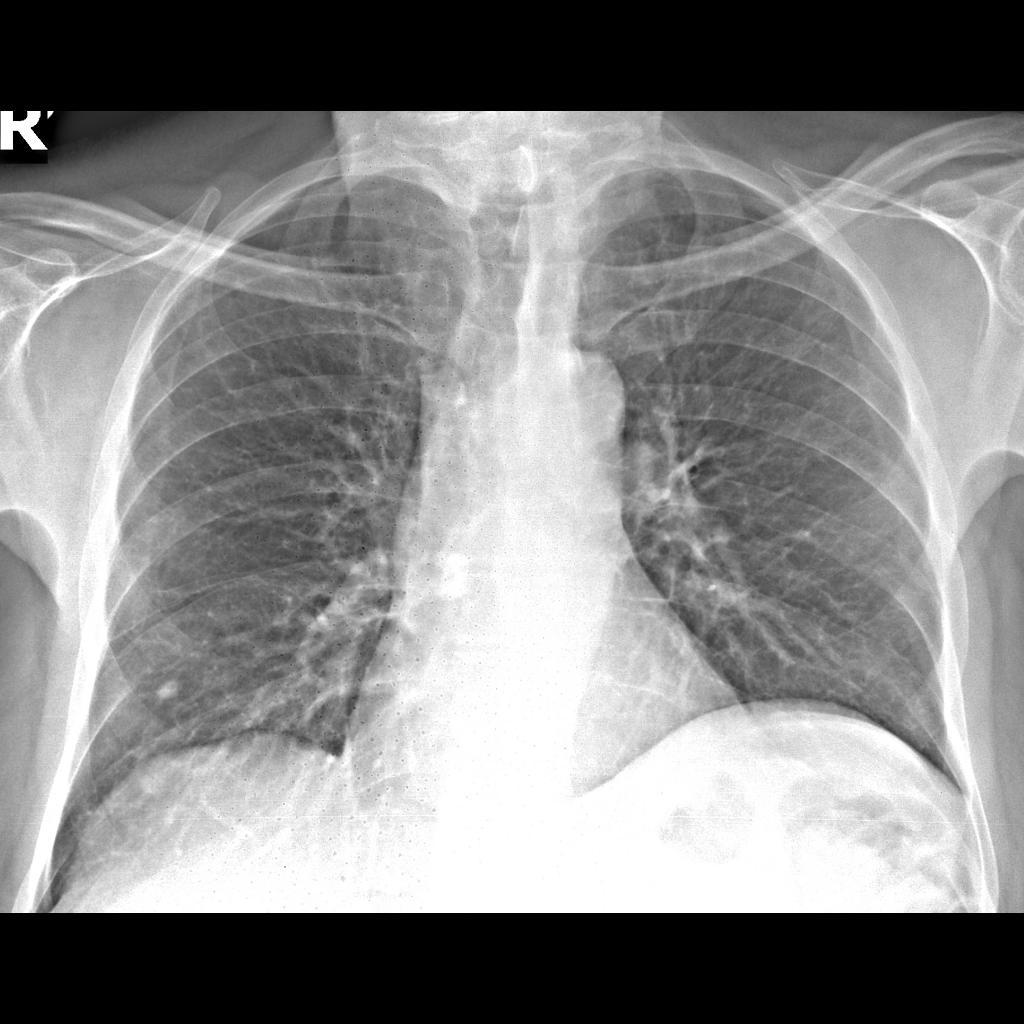Nodule: (152, 675, 193, 705)
